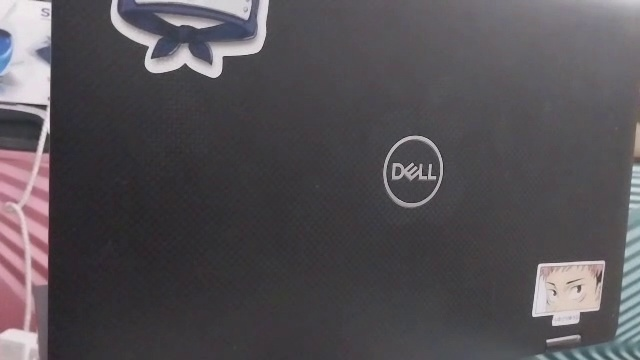laptop: (47, 1, 639, 359)
